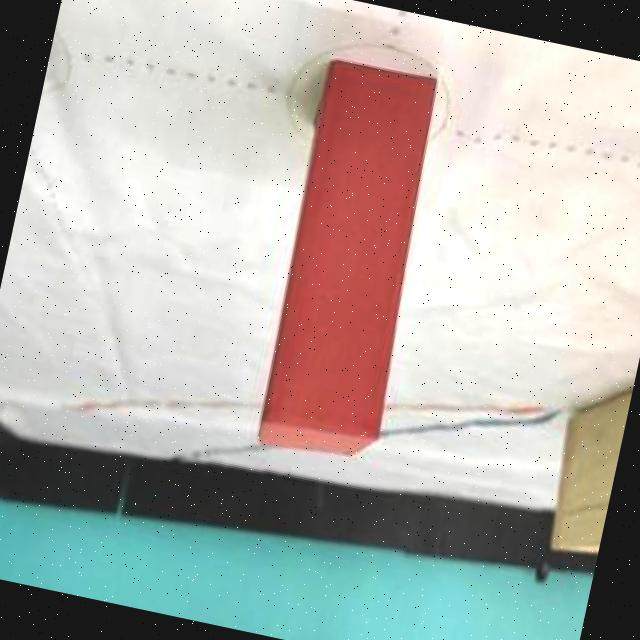redbox: (250, 56, 452, 468)
